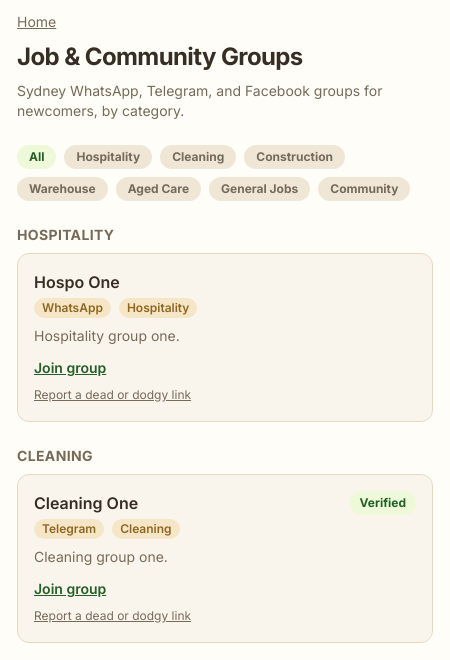
Scenario: GroupsPage › restores all groups when 'All' is selected again
Click the button "Hospitality".
click(108, 157)  # box [64,145,152,169]
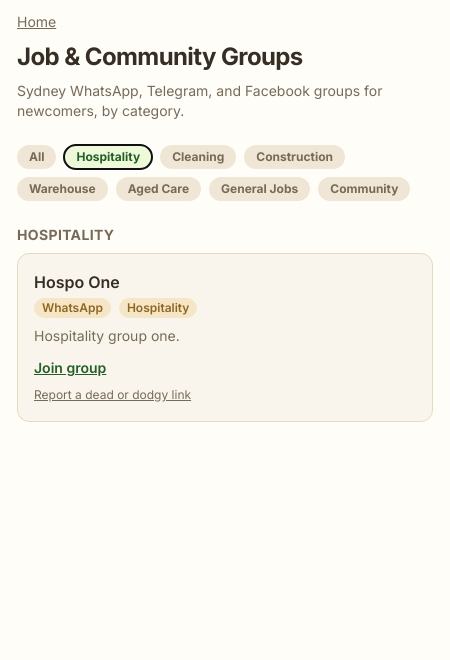
Click the button "All".
click(37, 157)  # box [17,145,56,169]
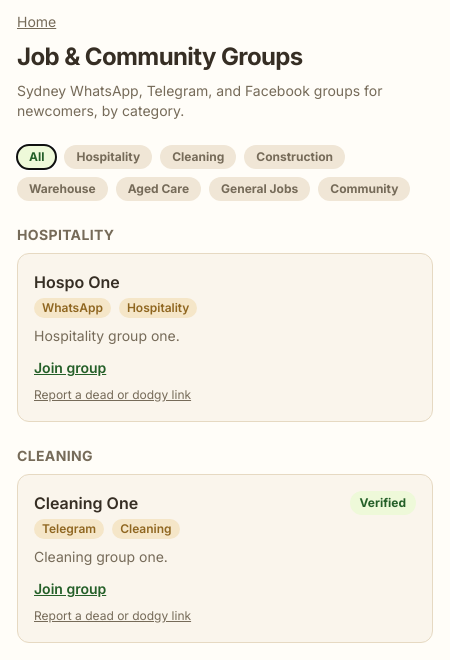
Check: the heading "Hospo One" is shown, box [34,270,120,294]
Check: the heading "Cleaning One" is shown, box [34,491,138,515]
